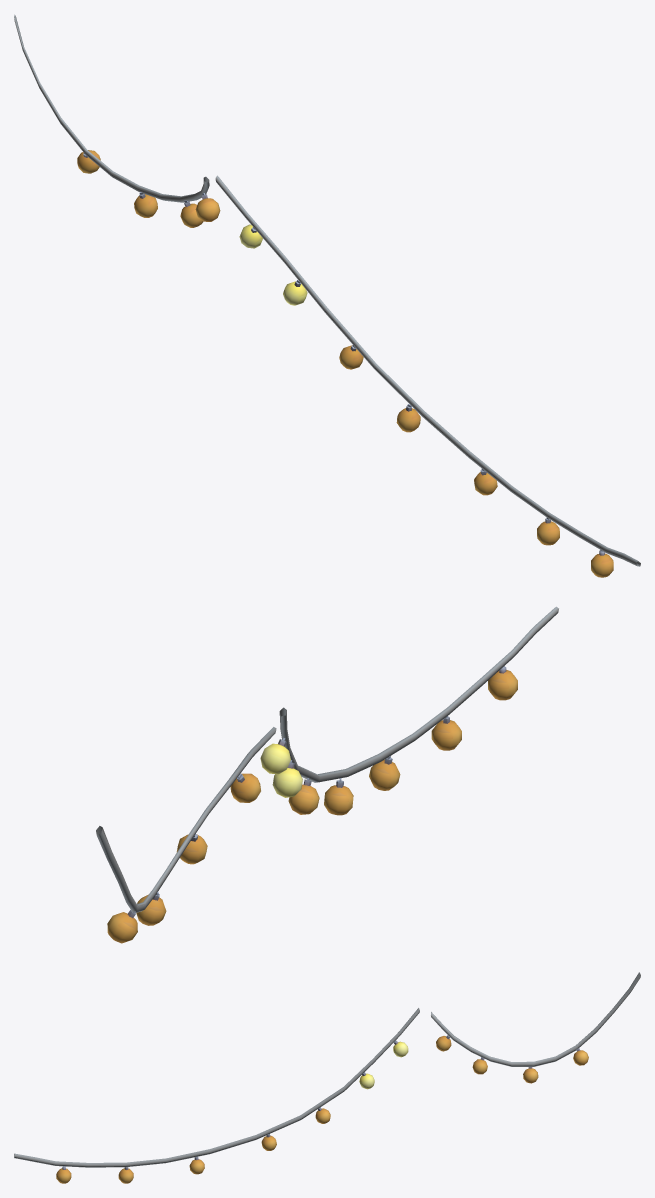
The model's file is pref_sm_beach_winter_lightflag_c_lv3.fbx.
The picture shows the model from 3 angles, top to bottom: view 1: azimuth 30°, elevation 25°; view 2: azimuth 150°, elevation 25°; view 3: azimuth 270°, elevation 25°; orthographic projection. The views are drawn at different scales.
Visible parts, largest first — view 1: pref_sm_beach_winter_lightflag_c_lv3; view 2: pref_sm_beach_winter_lightflag_c_lv3; view 3: pref_sm_beach_winter_lightflag_c_lv3.
Part boxes in pixels (x1,y1,x2,y2): pref_sm_beach_winter_lightflag_c_lv3: (14,14,640,577); pref_sm_beach_winter_lightflag_c_lv3: (96,606,558,943); pref_sm_beach_winter_lightflag_c_lv3: (14,972,640,1183).
Bounding box in the file's own units: 1.36 × 2.37 × 7.9.
